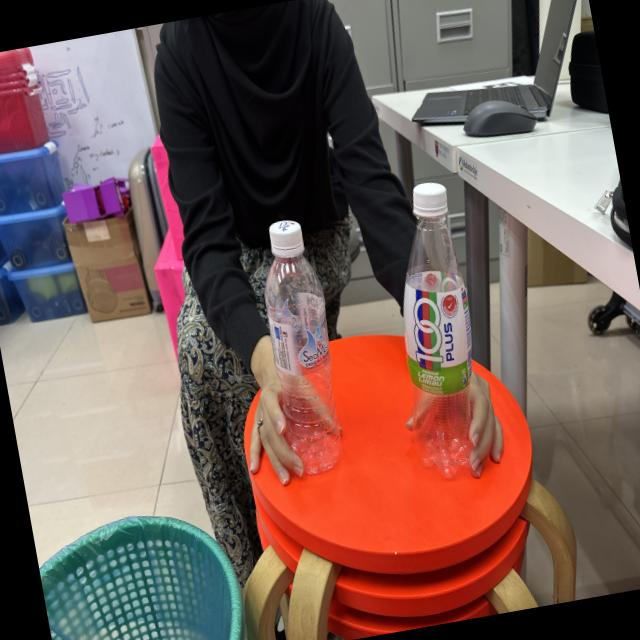dustbin: (30, 483, 272, 640)
plastic_bottle: (362, 173, 504, 491), (240, 205, 358, 493)
